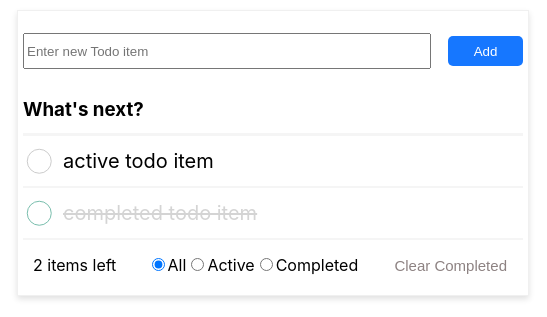
TodoList › should change todo by double click
Expected: the text "active todo item with new text" is not shown
Double-click the text "active todo item" at [138, 161], box x1=63 y1=149 x2=214 y2=173
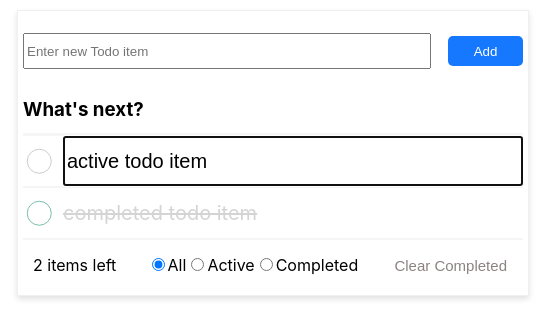
Type keys " with new text[Enter]"
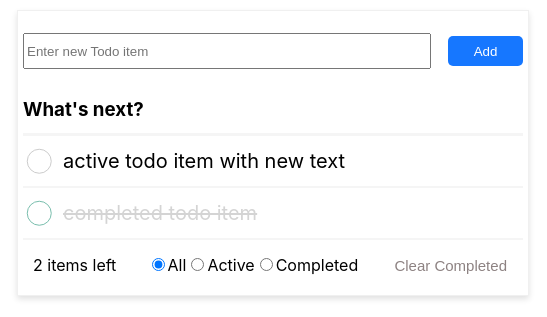
Now the text "active todo item with new text" is shown, box x1=63 y1=149 x2=345 y2=173
